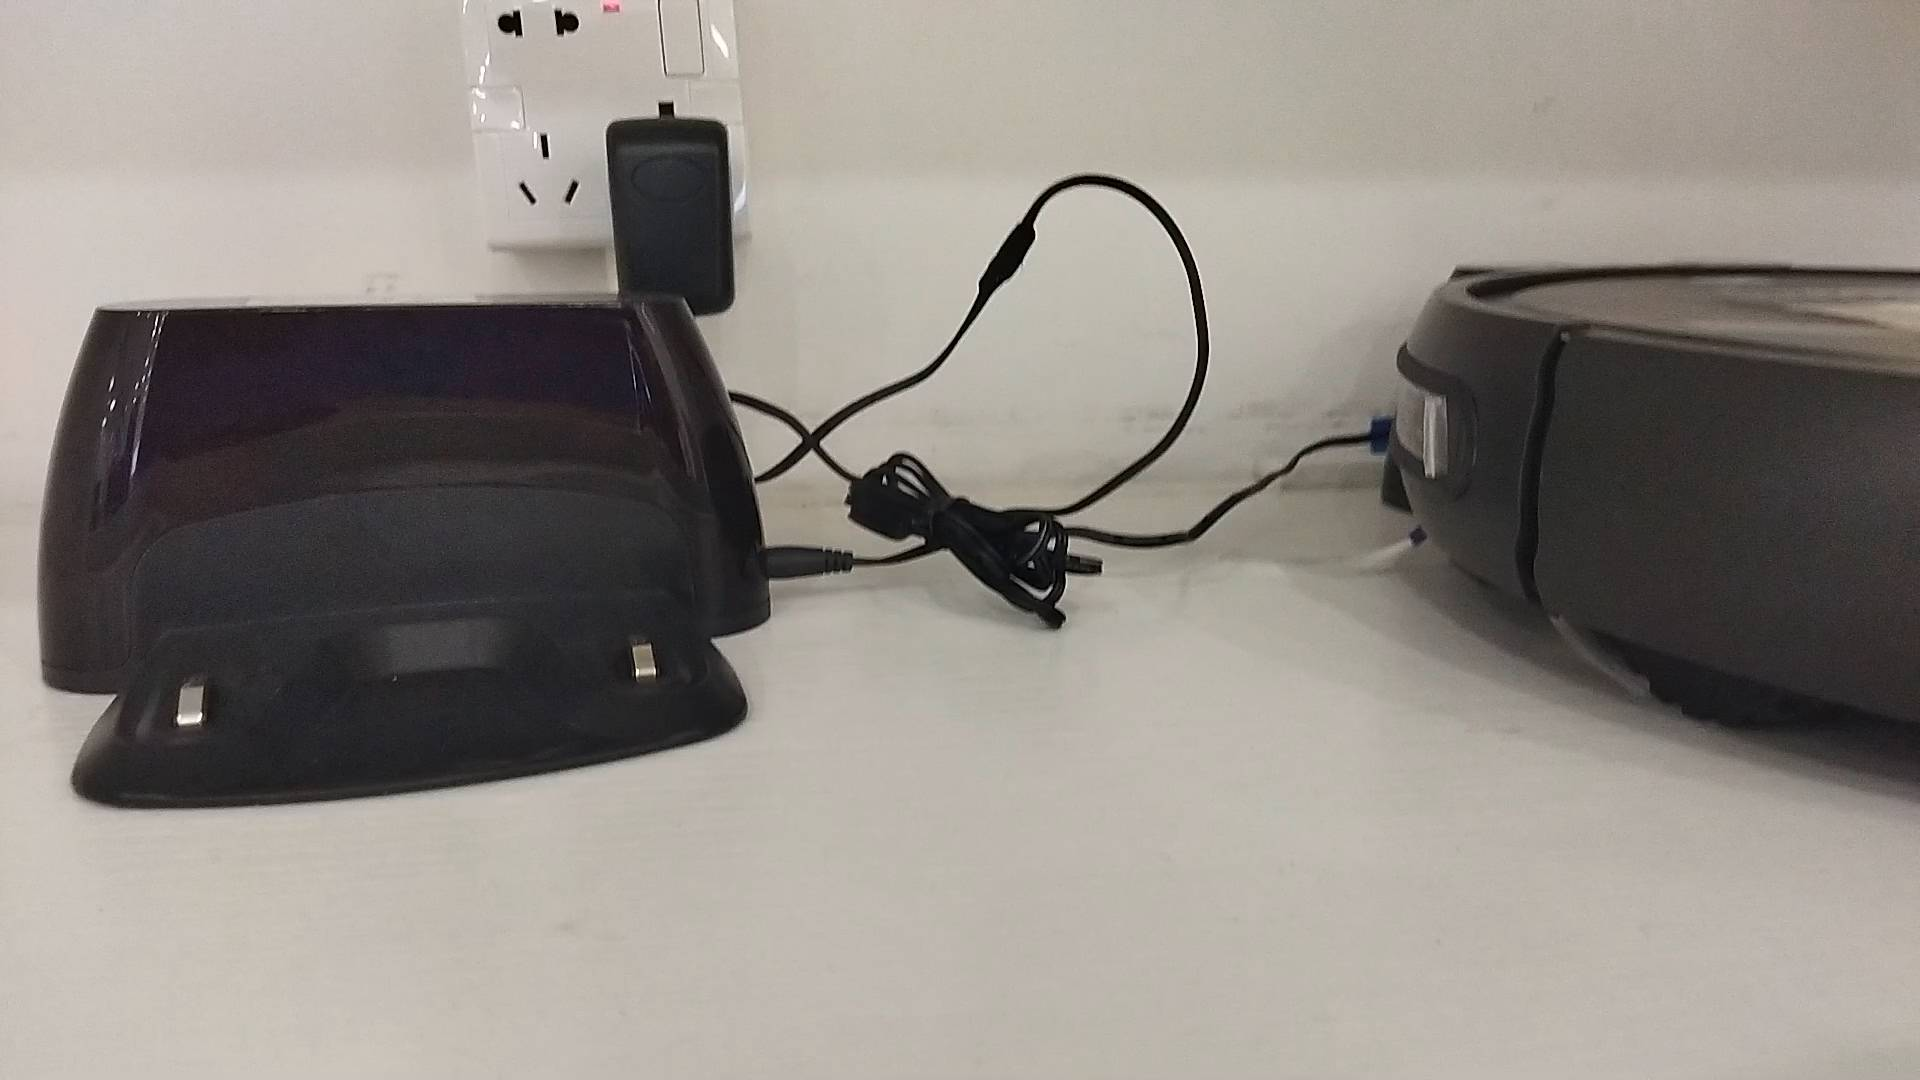recharge seat: (36, 291, 771, 810)
